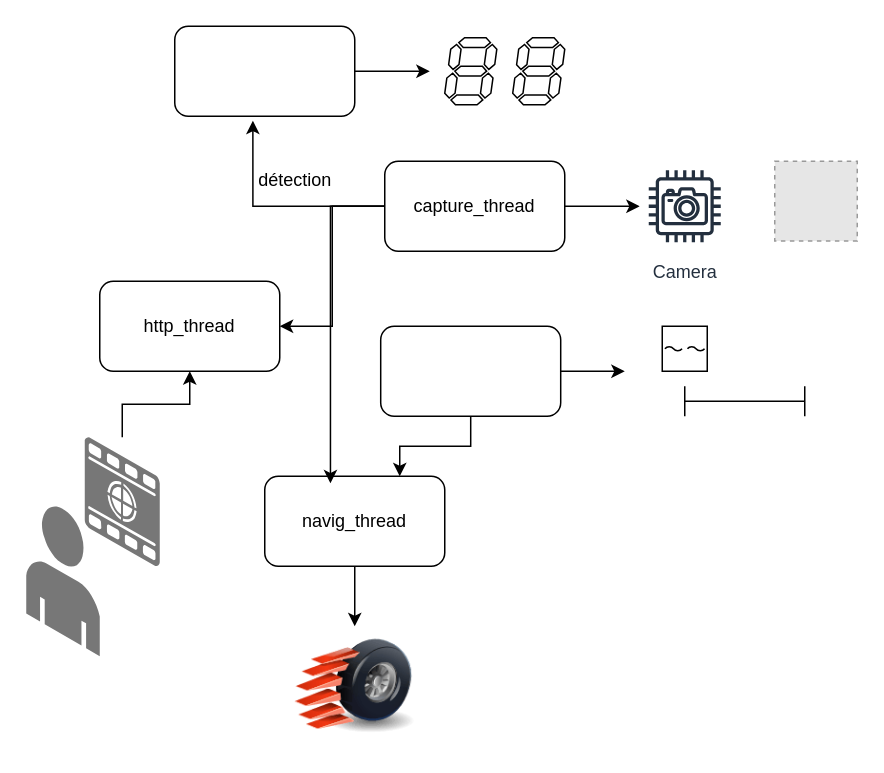
Image size: 884x773. Some labels were removed from this diagram. Grey dashed boxes stand in for pictures. The shapes that lost their labels are listed below. From the top down, each one's centre as x and y in pixels, then its label:
At point 264,70: "digits_thread".
At point 470,370: "ultras_thread".
